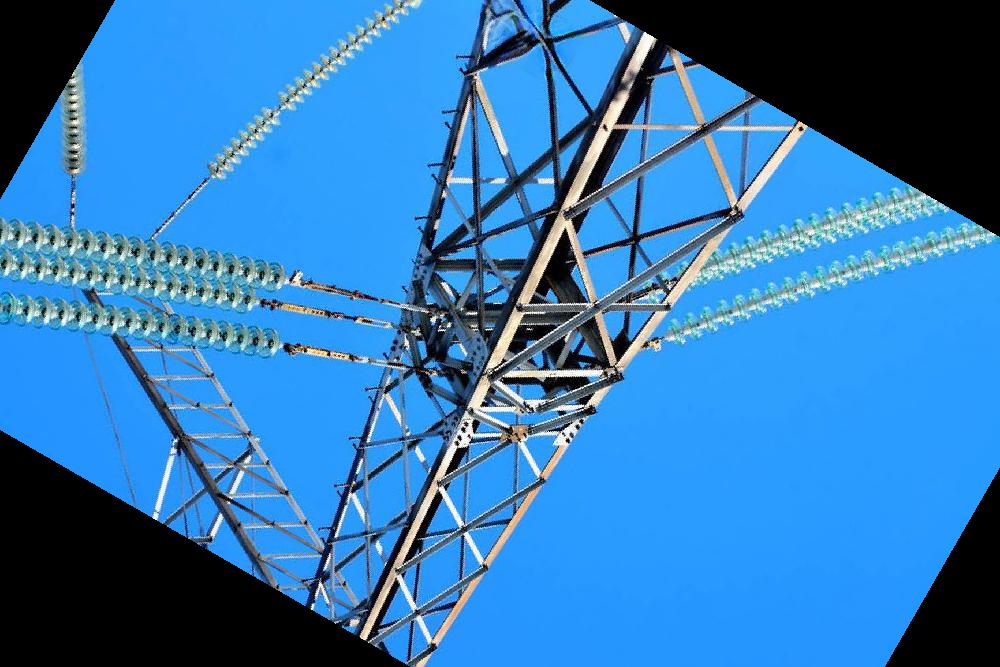insulator: (664, 219, 999, 350), (202, 1, 427, 186), (1, 213, 295, 315), (686, 183, 955, 289), (1, 286, 284, 365), (56, 55, 89, 184)
insulator_stringdrop: (259, 88, 299, 129)
